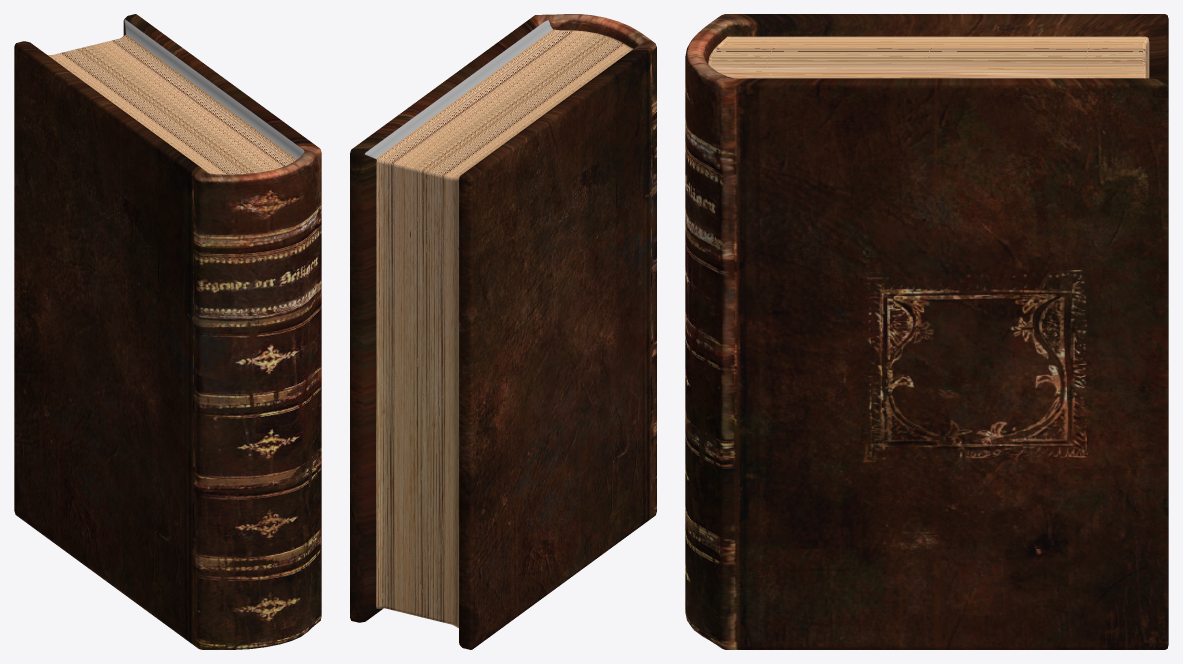
File: Book1.fbx
The picture shows the model from 3 angles, left to right: view 1: azimuth 30°, elevation 25°; view 2: azimuth 150°, elevation 25°; view 3: azimuth 270°, elevation 25°; orthographic projection. The views are drawn at different scales.
Visible parts, largest first — view 1: pCube2; view 2: pCube2; view 3: pCube2.
Boxes of the visible parts, bbox=[...] form: pCube2: bbox=[14, 14, 321, 649]; pCube2: bbox=[350, 14, 656, 649]; pCube2: bbox=[685, 14, 1168, 649].
Bounding box in the file's own units: 0.9705 × 3.57 × 2.76.
Materials: 3 (2 with a texture image).
